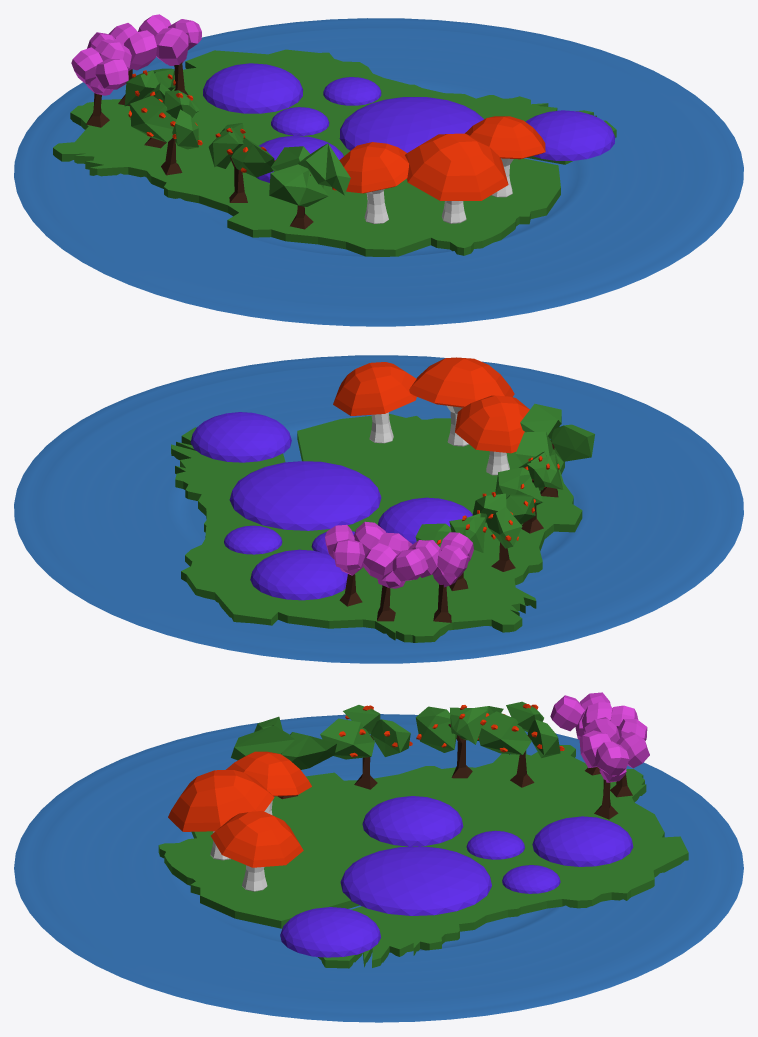
The model's file is island_Sacrementum.gltf.
3 renders of one model, top to bottom at view 1: azimuth 30°, elevation 25°; view 2: azimuth 150°, elevation 25°; view 3: azimuth 270°, elevation 25°, orthographic.
Parts seen in each view (by area): view 1: water_Sacrementum, island_Haven.001, Cube, Icosphere, Icosphere.003, Tree.003, Tree.005, Cube.001, Icosphere.001, Tree.002, Cube.002, Tree.004 (+6 smaller); view 2: water_Sacrementum, island_Haven.001, Icosphere, Icosphere.001, Cube, Cube.002, Icosphere.003, Cube.001, Tree.003, Tree.007, Tree.005, Tree.002 (+5 smaller); view 3: water_Sacrementum, island_Haven.001, Icosphere, Cube, Cube.002, Icosphere.001, Icosphere.002, Icosphere.003, Tree.004, Tree.006, Tree.005, Tree.008 (+6 smaller).
Boxes of the visible parts, box(x1,y1,x2,y2) form: water_Sacrementum: box(14, 18, 743, 326); island_Haven.001: box(53, 49, 616, 256); Cube: box(405, 133, 508, 223); Icosphere: box(339, 97, 483, 152); Icosphere.003: box(203, 63, 303, 113); Tree.003: box(269, 143, 350, 229); Tree.005: box(128, 90, 202, 175); Cube.001: box(332, 142, 408, 223); Icosphere.001: box(525, 110, 615, 160); Tree.002: box(71, 39, 131, 127); Cube.002: box(465, 116, 545, 197); Tree.004: box(208, 123, 275, 202); water_Sacrementum: box(14, 355, 743, 663); island_Haven.001: box(171, 414, 582, 642); Icosphere: box(229, 461, 381, 530); Icosphere.001: box(190, 412, 291, 462); Cube: box(409, 357, 514, 446); Cube.002: box(333, 362, 416, 443); Icosphere.003: box(250, 549, 347, 600); Cube.001: box(455, 395, 529, 475); Tree.003: box(515, 403, 594, 497); Tree.007: box(363, 532, 428, 621); Tree.005: box(472, 492, 535, 571); Tree.002: box(408, 532, 473, 622); water_Sacrementum: box(14, 714, 743, 1022); island_Haven.001: box(158, 745, 688, 968); Icosphere: box(340, 846, 491, 915); Cube: box(168, 770, 274, 860); Cube.002: box(210, 810, 303, 891); Icosphere.001: box(280, 907, 380, 957); Icosphere.002: box(362, 796, 463, 846); Icosphere.003: box(532, 816, 633, 866); Tree.004: box(320, 705, 412, 789); Tree.006: box(478, 701, 564, 787); Tree.005: box(415, 705, 503, 778); Tree.008: box(579, 730, 649, 819).
Size of the model in its own units: 820 by 115 by 820.
